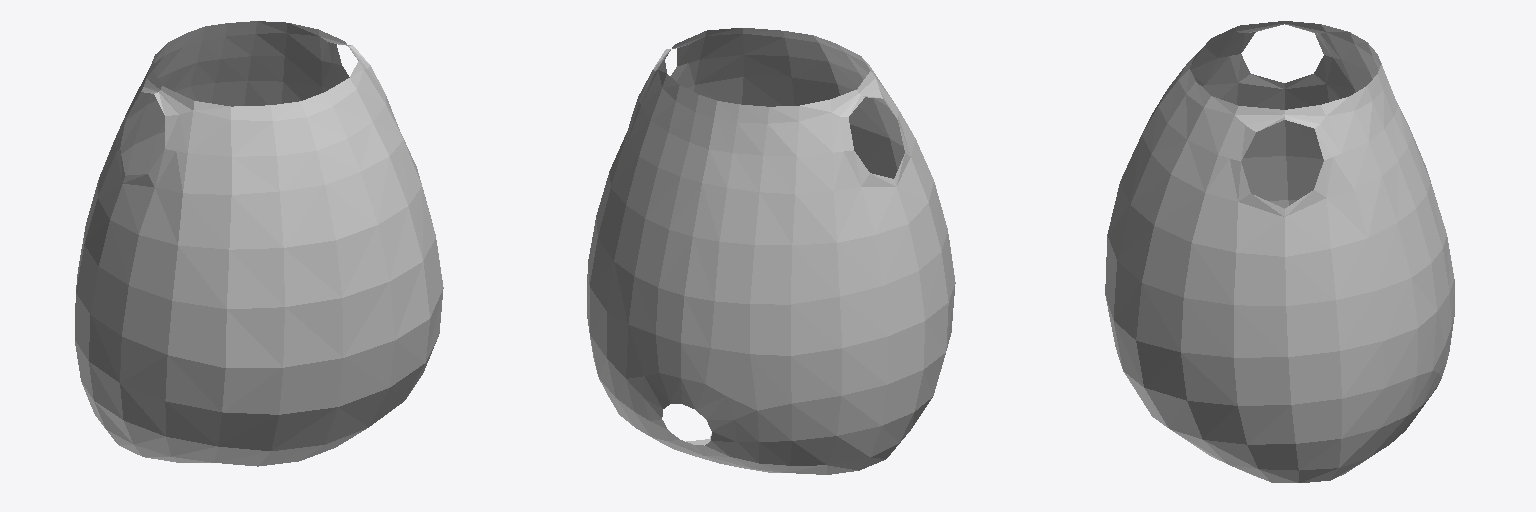
The model's file is body.obj.
The picture shows the model from 3 angles: view 1: azimuth 30°, elevation 25°; view 2: azimuth 150°, elevation 25°; view 3: azimuth 270°, elevation 25°; orthographic projection.
Parts seen in each view (by area): view 1: Meowth; view 2: Meowth; view 3: Meowth.
Boxes of the visible parts, x1,y1,x2,y2 form: Meowth: [75, 21, 443, 466]; Meowth: [587, 28, 955, 474]; Meowth: [1105, 21, 1454, 482].
Size of the model in its own units: 11.57 by 13.17 by 10.85.